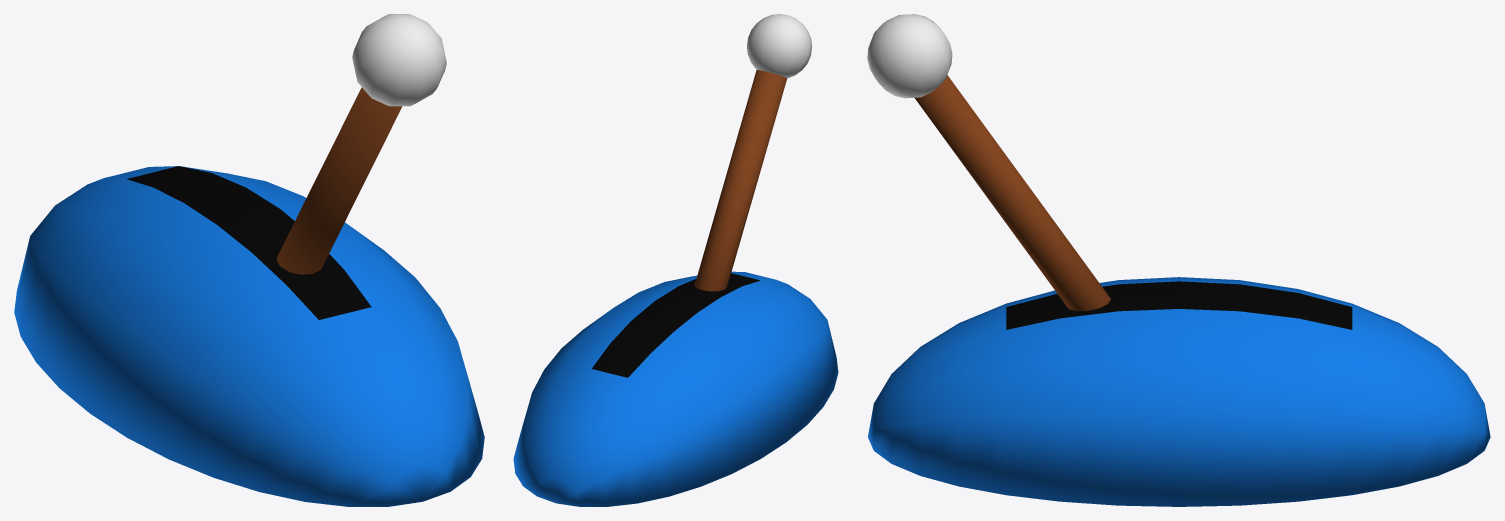
File: godotTrigger.glb
3 views of the same model, side by side, from view 1: azimuth 30°, elevation 25°; view 2: azimuth 150°, elevation 25°; view 3: azimuth 270°, elevation 25° (orthographic). The views are drawn at different scales.
Parts seen in each view (by area): view 1: Trigger; view 2: Trigger; view 3: Trigger.
Boxes of the visible parts, x1,y1,x2,y2 form: Trigger: (14,14,484,506); Trigger: (513,14,838,506); Trigger: (867,14,1490,506).
Size of the model in its own units: 2.12 by 2.97 by 3.99.
